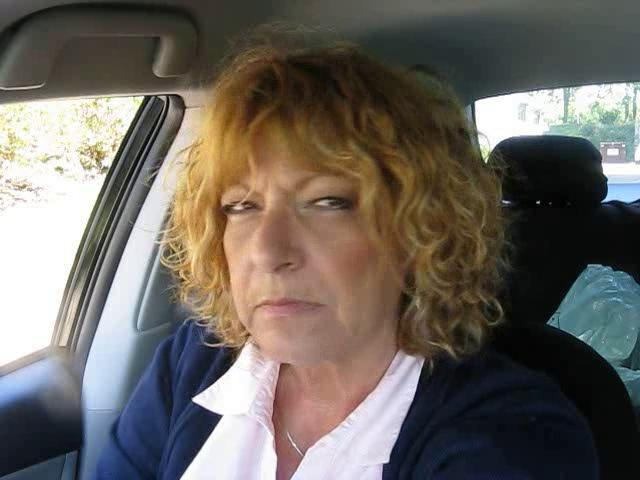close_eyeL: (214, 187, 273, 228)
close_eyeR: (289, 180, 377, 229)
no_yawn: (237, 278, 340, 333)
